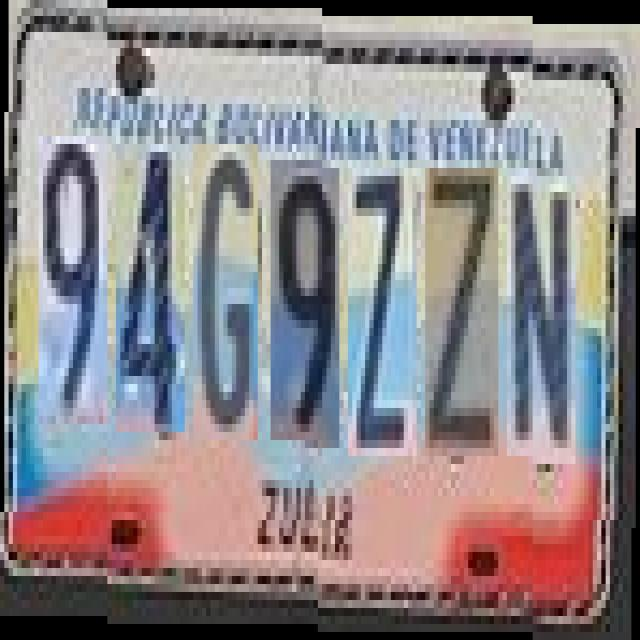4: (116, 144, 185, 432)
9: (38, 144, 108, 432), (270, 160, 340, 440)
G: (193, 144, 258, 440)
N: (507, 160, 575, 448)
Z: (425, 160, 498, 448), (348, 160, 417, 448)
